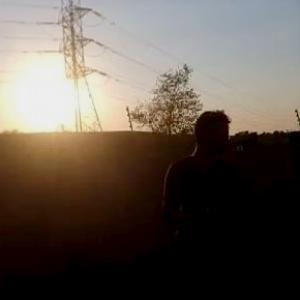follow: (158, 107, 254, 299)
